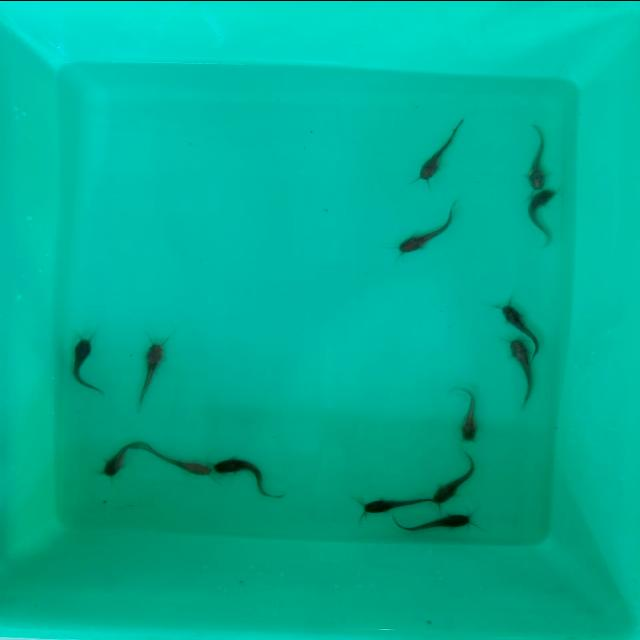lele: (393, 203, 455, 255), (414, 124, 460, 182), (216, 454, 276, 496), (428, 456, 476, 506), (503, 335, 535, 409), (144, 446, 214, 478), (97, 433, 143, 477), (138, 340, 170, 402), (395, 510, 480, 532), (496, 300, 540, 340), (524, 190, 558, 241), (361, 494, 428, 514), (458, 384, 480, 441), (70, 336, 96, 384), (525, 126, 545, 186)
